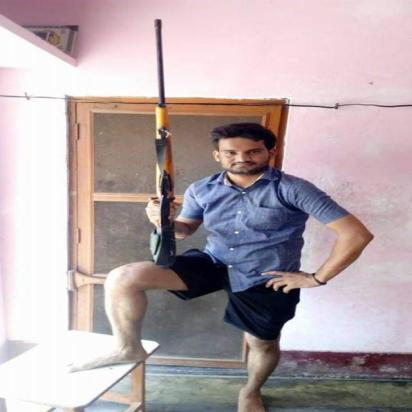Gun: (142, 17, 182, 271)
